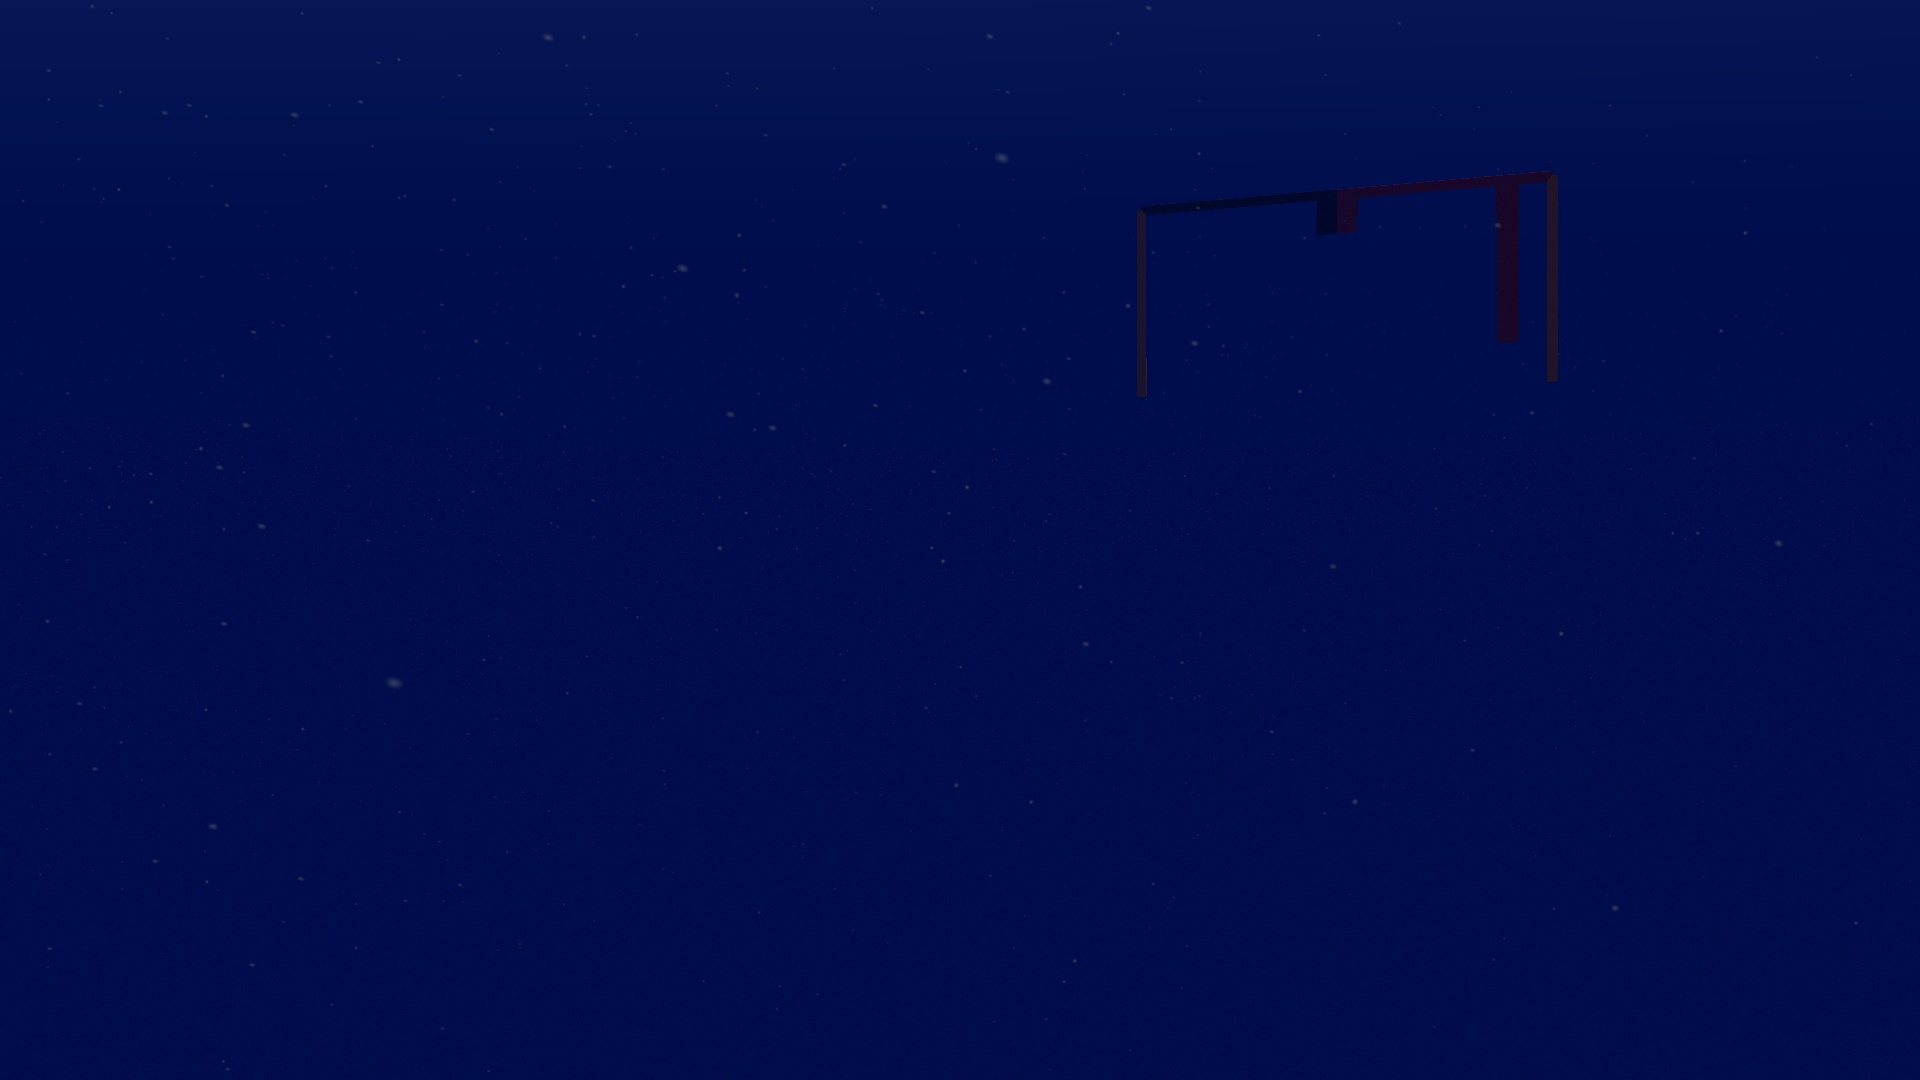Gate: (1129, 166, 1563, 405)
